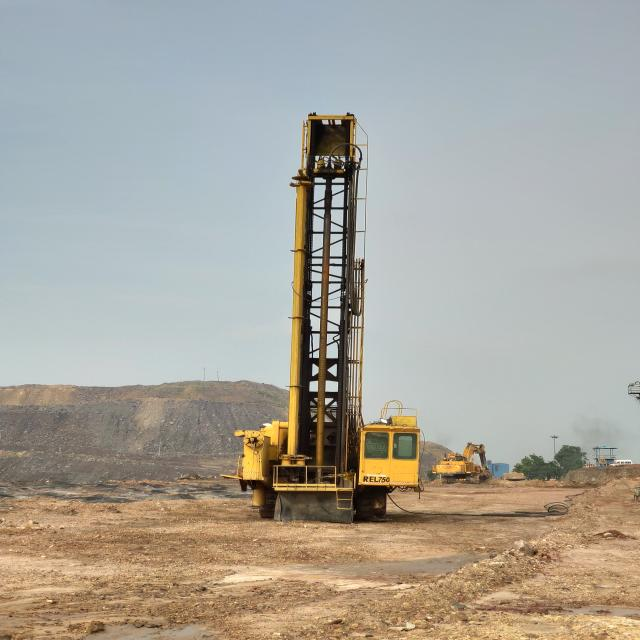excavator: (427, 447, 488, 483)
